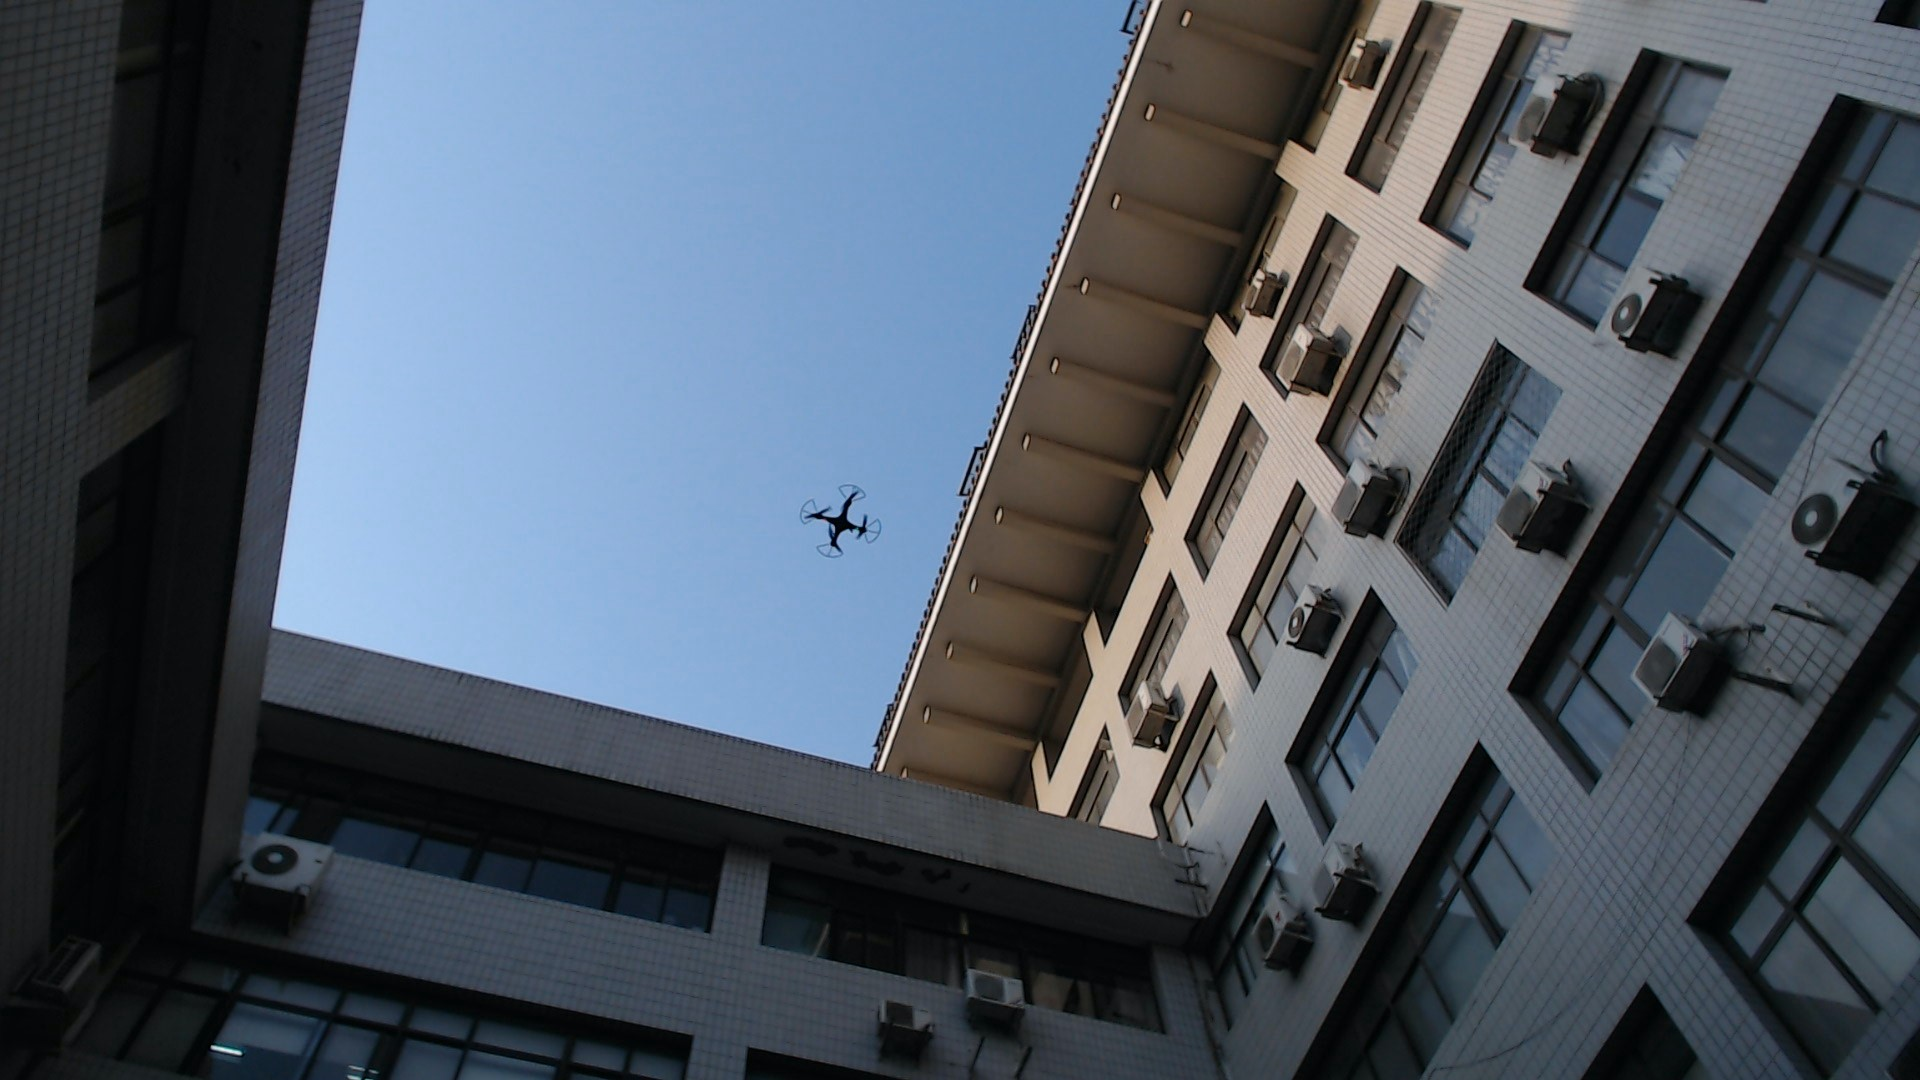drone: (786, 465, 899, 567)
